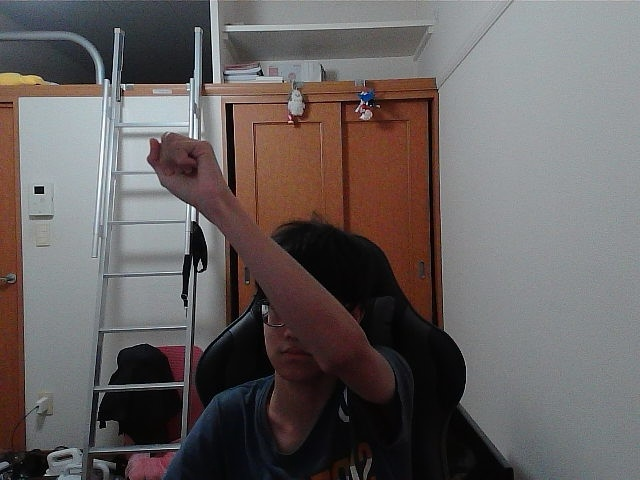closed_palm: (155, 138, 205, 198)
